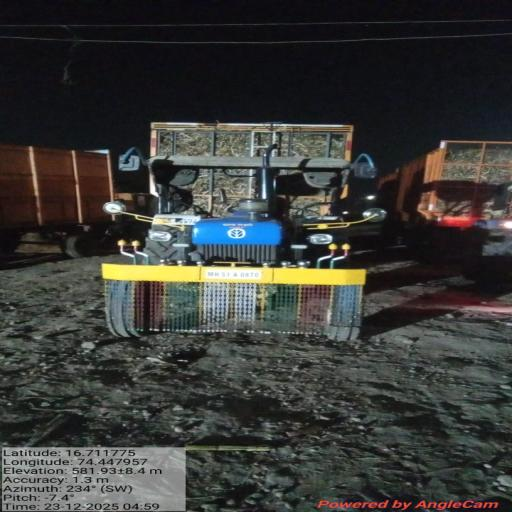number_plate: (204, 265, 287, 291)
